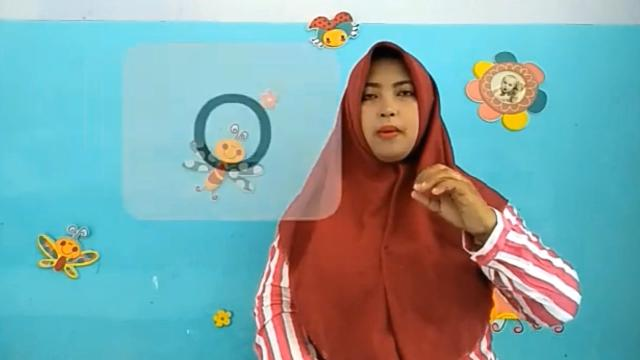O: (407, 160, 493, 236)
